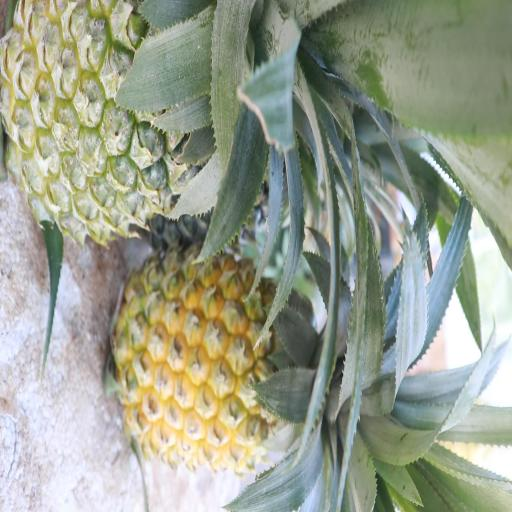------------------------------: (6, 0, 288, 230)
Pineapple - v8 v1: (117, 252, 368, 466)
